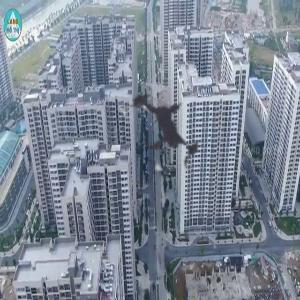drone: (94, 58, 241, 205)
